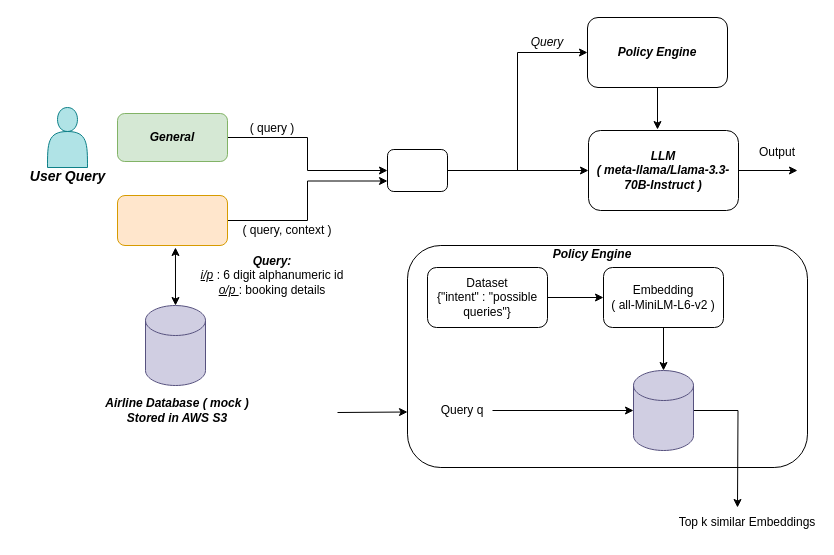
The diagram is 834 pixels wide and 555 high, and some of its shapes have lost their labels. The centre of each missing label's shape, as x and y in pixels:
FAISS Index store: the point at 663,410
Specific: the point at 172,220
